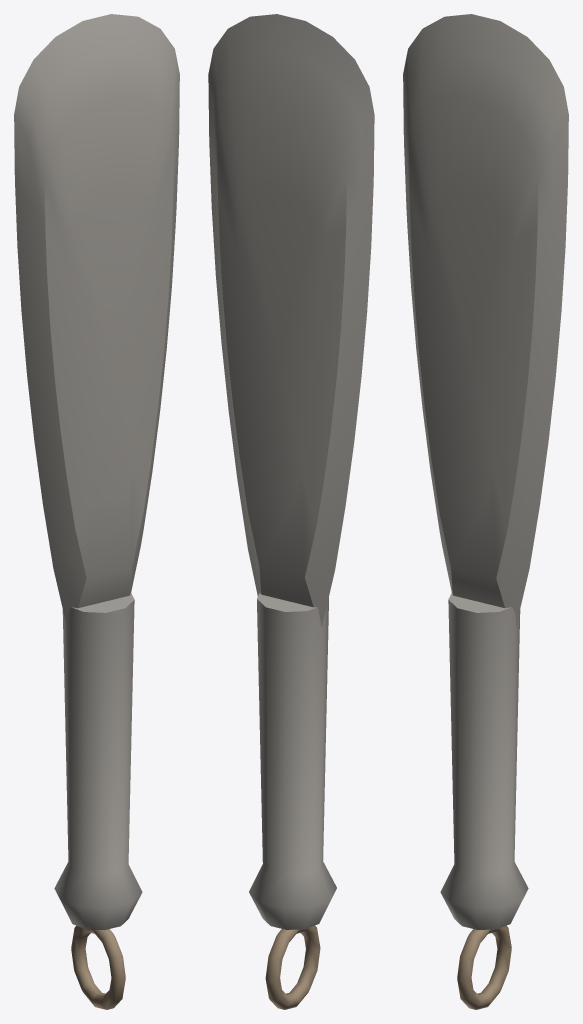
File: mere-club.glb
3 views of the same model, side by side, from view 1: azimuth 30°, elevation 25°; view 2: azimuth 150°, elevation 25°; view 3: azimuth 330°, elevation 25° (orthographic).
Parts seen in each view (by area): view 1: mere-club; view 2: mere-club; view 3: mere-club.
Boxes of the visible parts, x1,y1,x2,y2 form: mere-club: [14, 14, 179, 1009]; mere-club: [208, 14, 374, 1009]; mere-club: [403, 14, 568, 1009].
Size of the model in its own units: 0.19 by 1.08 by 0.0939.
